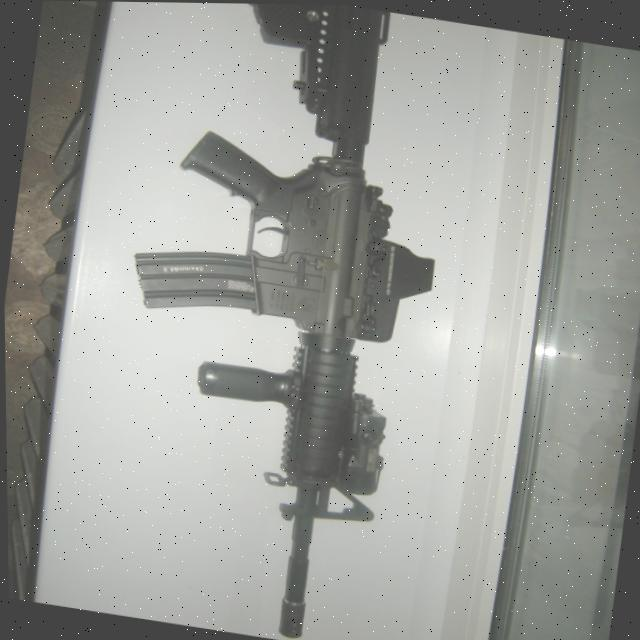firearm: (75, 1, 474, 640)
